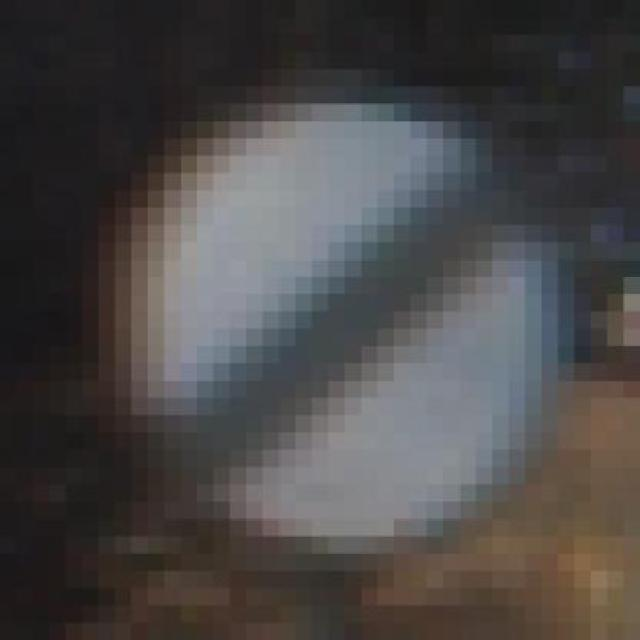End of all speed and passing limits: (88, 103, 614, 554)
